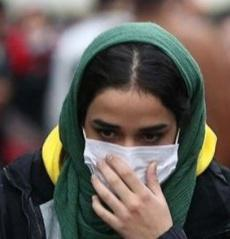OK: (84, 110, 178, 203)
